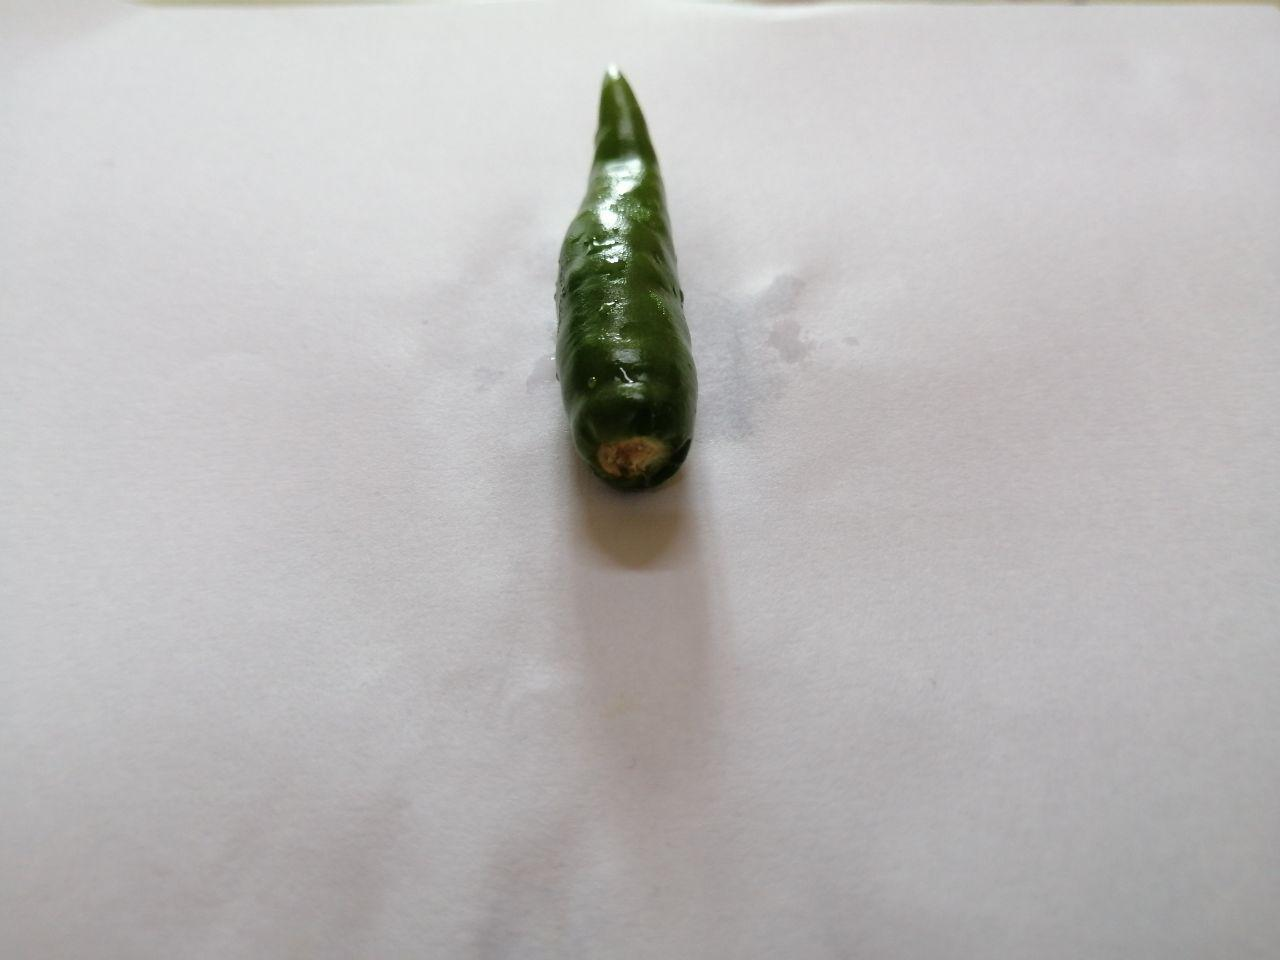lada hijau: (541, 46, 727, 517)
